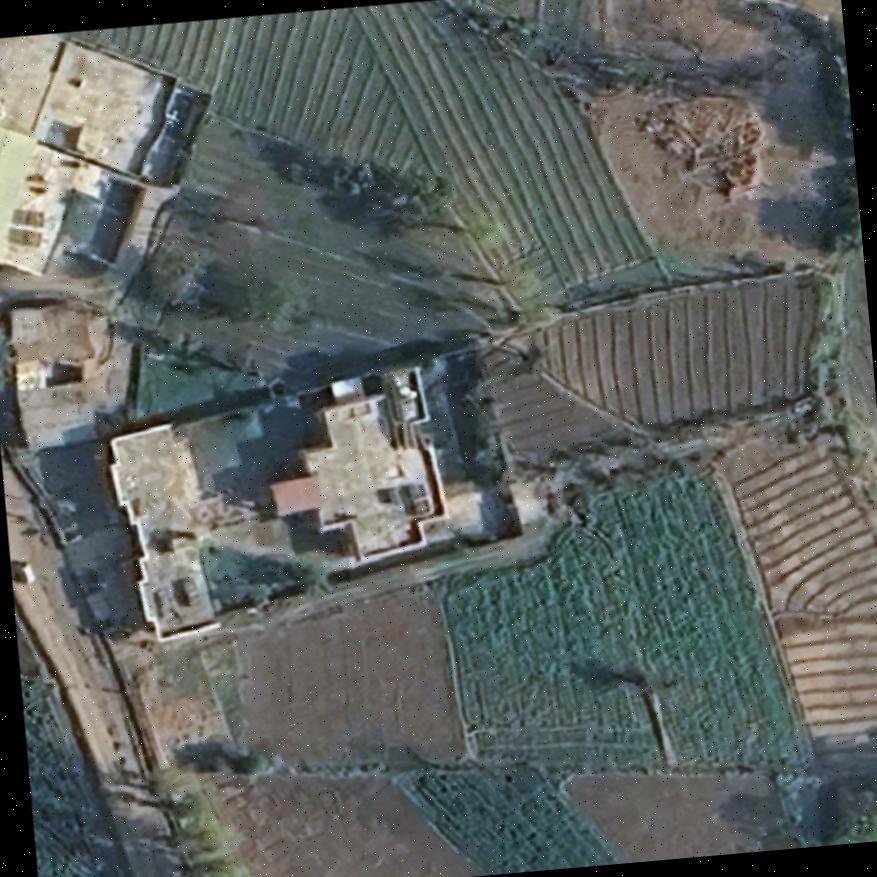Solarpanel: (404, 476, 433, 519), (383, 482, 403, 505)
